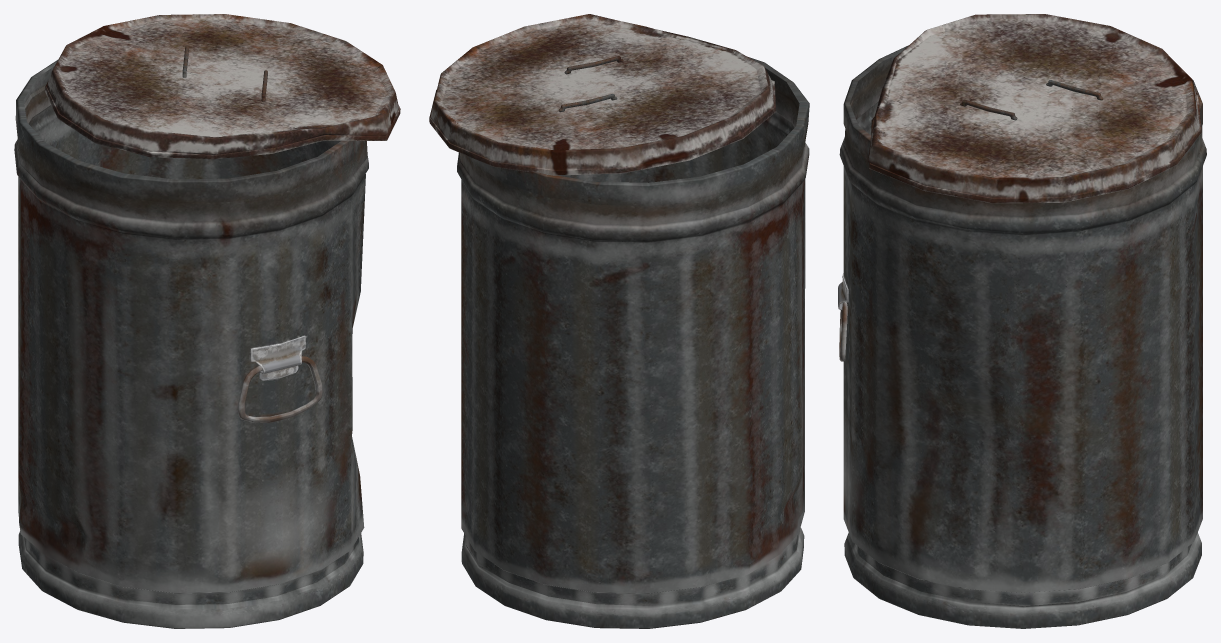
The model's file is acg_trash_can.glb.
3 views of the same model, side by side, from view 1: azimuth 30°, elevation 25°; view 2: azimuth 150°, elevation 25°; view 3: azimuth 270°, elevation 25° (orthographic).
Parts seen in each view (by area): view 1: Trash_Can_Blockout_pCube2, Trash_Can_Top2, Handle_Holder3, Trash_Can_Handle; view 2: Trash_Can_Blockout_pCube2, Trash_Can_Top2; view 3: Trash_Can_Blockout_pCube2, Trash_Can_Top2.
Boxes of the visible parts, <box> form: Trash_Can_Blockout_pCube2: <box>14,60,368,628</box>; Trash_Can_Top2: <box>45,14,400,159</box>; Handle_Holder3: <box>250,335,305,380</box>; Trash_Can_Handle: <box>238,356,322,422</box>; Trash_Can_Blockout_pCube2: <box>457,57,809,628</box>; Trash_Can_Top2: <box>429,14,776,175</box>; Trash_Can_Blockout_pCube2: <box>839,45,1206,628</box>; Trash_Can_Top2: <box>868,14,1201,203</box>.
Size of the model in its own units: 2.95 by 4.07 by 2.79.
Materials: 1 (1 with a texture image).
